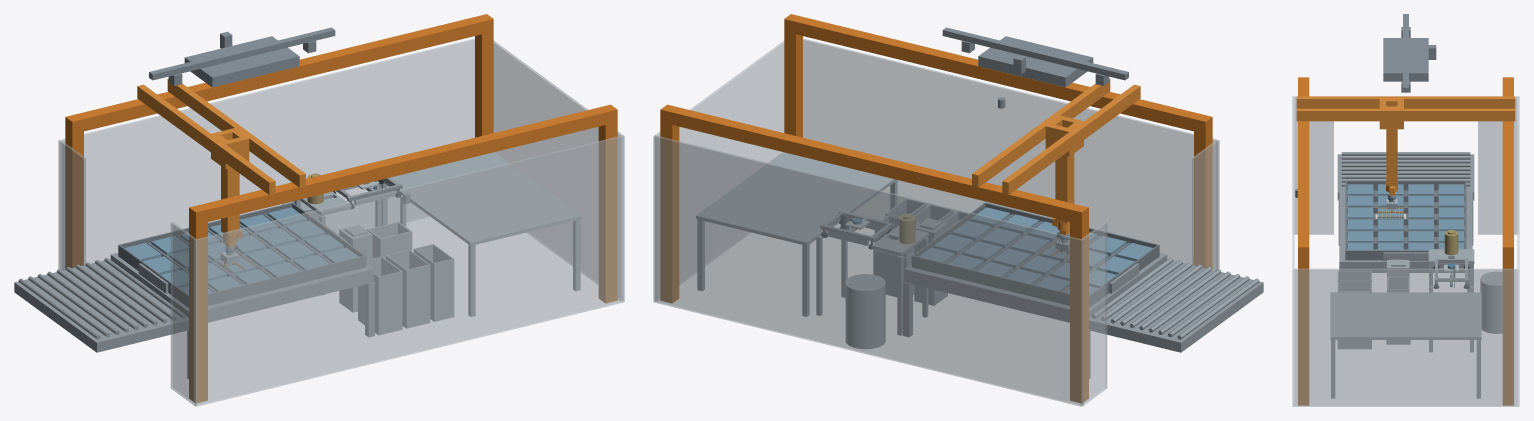
Rendered from CTP_R03_complete_assembly_working_pose.glb.
The picture shows the model from 3 angles, left to right: view 1: azimuth 30°, elevation 25°; view 2: azimuth 150°, elevation 25°; view 3: azimuth 270°, elevation 25°; orthographic projection. The views are drawn at different scales.
Visible parts, largest first — view 1: 000_fence_safety_fence, 001_fence_safety_fence, 002_fence_safety_fence, 083_station_cover_table, 060_gantry_X_rail_beam, 061_gantry_X_rail_beam, 005_conveyor_intake_conveyor, 003_fence_safety_fence, 016_bench_heating_bench_coil_zone, 056_gantry_column, 058_gantry_column, 004_fence_safety_fence (+19 smaller); view 2: 001_fence_safety_fence, 000_fence_safety_fence, 002_fence_safety_fence, 083_station_cover_table, 061_gantry_X_rail_beam, 060_gantry_X_rail_beam, 005_conveyor_intake_conveyor, 004_fence_safety_fence, 016_bench_heating_bench_coil_zone, 057_gantry_column, 059_gantry_column, 003_fence_safety_fence (+18 smaller); view 3: 002_fence_safety_fence, 083_station_cover_table, 004_fence_safety_fence, 003_fence_safety_fence, 063_moving_Y_bridge, 062_moving_Y_bridge, 060_gantry_X_rail_beam, 061_gantry_X_rail_beam, 016_bench_heating_bench_coil_zone, 092_top_exhaust_hood, 058_gantry_column, 059_gantry_column (+47 smaller).
Part boxes in pixels (<box>): 000_fence_safety_fence: <box>194,135,624,406</box>; 001_fence_safety_fence: <box>58,38,474,270</box>; 002_fence_safety_fence: <box>493,41,622,301</box>; 083_station_cover_table: <box>383,152,581,245</box>; 060_gantry_X_rail_beam: <box>189,104,617,224</box>; 061_gantry_X_rail_beam: <box>65,14,493,134</box>; 005_conveyor_intake_conveyor: <box>14,260,188,352</box>; 003_fence_safety_fence: <box>170,222,196,405</box>; 016_bench_heating_bench_coil_zone: <box>110,253,373,322</box>; 056_gantry_column: <box>189,220,207,402</box>; 058_gantry_column: <box>598,122,617,303</box>; 004_fence_safety_fence: <box>59,140,85,270</box>; 001_fence_safety_fence: <box>653,135,1083,406</box>; 000_fence_safety_fence: <box>803,38,1219,270</box>; 002_fence_safety_fence: <box>655,41,784,301</box>; 083_station_cover_table: <box>696,152,896,245</box>; 061_gantry_X_rail_beam: <box>660,104,1088,224</box>; 060_gantry_X_rail_beam: <box>784,14,1212,134</box>; 005_conveyor_intake_conveyor: <box>1089,260,1263,352</box>; 004_fence_safety_fence: <box>1081,222,1107,405</box>; 016_bench_heating_bench_coil_zone: <box>904,253,1167,322</box>; 057_gantry_column: <box>1070,220,1088,402</box>; 059_gantry_column: <box>660,122,679,303</box>; 003_fence_safety_fence: <box>1192,140,1218,270</box>; 002_fence_safety_fence: <box>1294,268,1517,406</box>; 083_station_cover_table: <box>1330,292,1481,339</box>; 004_fence_safety_fence: <box>1478,96,1517,234</box>; 003_fence_safety_fence: <box>1294,96,1333,234</box>; 063_moving_Y_bridge: <box>1296,108,1515,121</box>; 062_moving_Y_bridge: <box>1296,96,1515,108</box>; 060_gantry_X_rail_beam: <box>1298,77,1309,257</box>; 061_gantry_X_rail_beam: <box>1502,77,1513,257</box>; 016_bench_heating_bench_coil_zone: <box>1339,188,1472,272</box>; 092_top_exhaust_hood: <box>1383,38,1428,81</box>; 058_gantry_column: <box>1298,257,1309,405</box>; 059_gantry_column: <box>1502,257,1513,405</box>.
Size of the model in its own units: 6.3 by 3.4 by 3.
